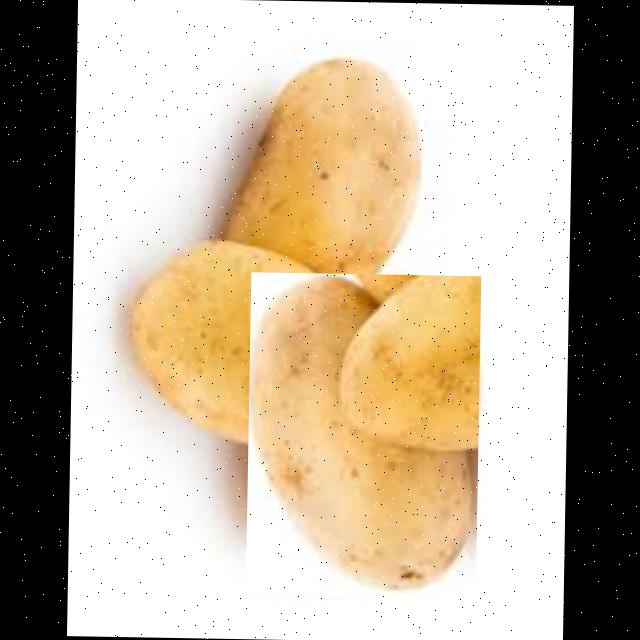Potato: (245, 271, 481, 595), (220, 55, 422, 358), (124, 235, 394, 450)
